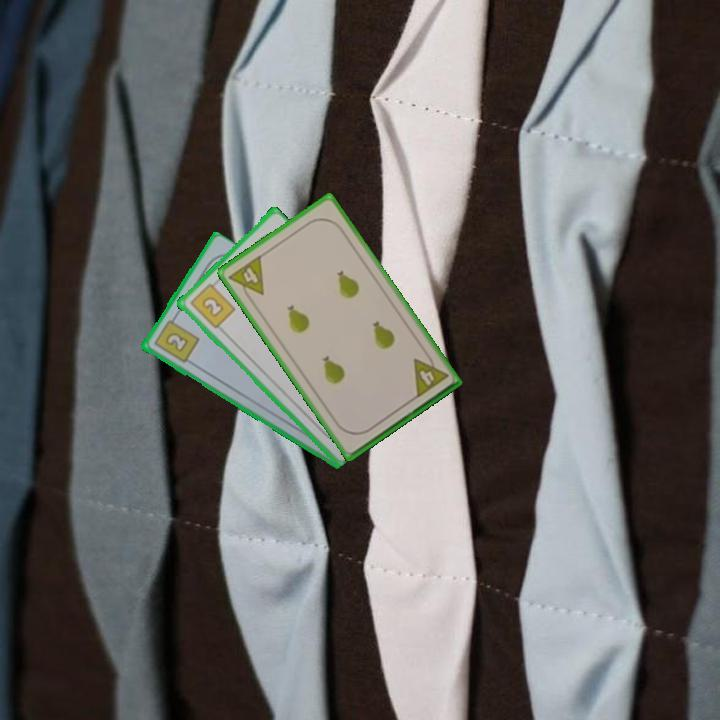2b: (186, 277, 238, 331), (150, 312, 201, 366)
4p: (225, 251, 267, 305), (409, 348, 451, 401)
